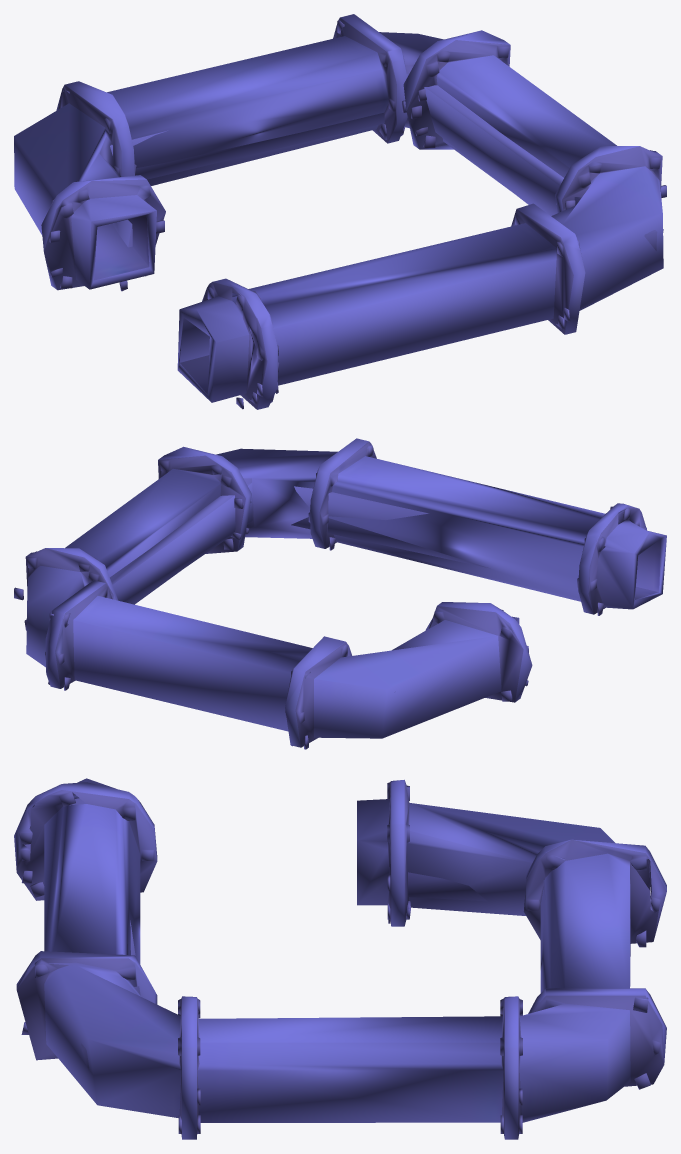
The model's file is model.progressive.glb.
3 renders of one model, top to bottom at view 1: azimuth 30°, elevation 25°; view 2: azimuth 150°, elevation 25°; view 3: azimuth 270°, elevation 25°, orthographic. The views are drawn at different scales.
Visible parts, largest first — view 1: material; view 2: material; view 3: material.
Part boxes in pixels (bbox=[...]): material: bbox=[14, 14, 666, 409]; material: bbox=[14, 438, 666, 749]; material: bbox=[14, 778, 666, 1139].
Size of the model in its own units: 1.89 by 0.4081 by 1.9.
1 material, 1 textured.
